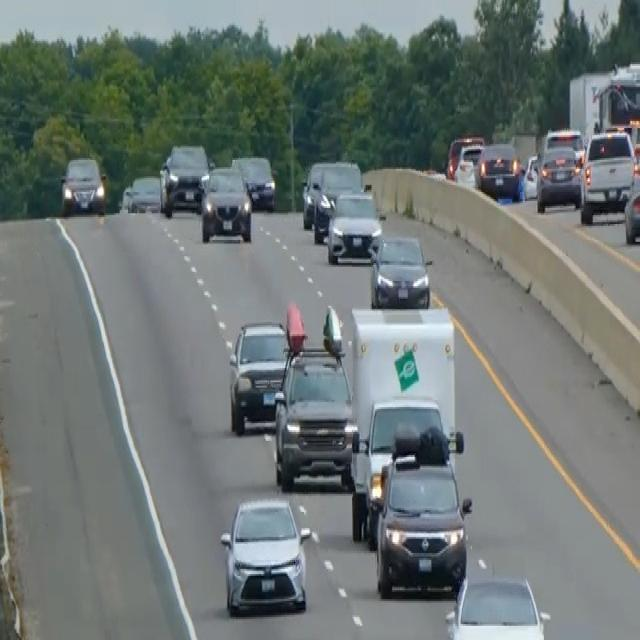car: (219, 494, 310, 615), (228, 316, 291, 434), (444, 572, 550, 638), (579, 126, 635, 222), (369, 233, 431, 309), (326, 188, 382, 265), (200, 164, 252, 244), (312, 158, 362, 240), (159, 142, 209, 215), (535, 142, 582, 212), (60, 155, 106, 215), (475, 141, 522, 199), (231, 153, 276, 210), (301, 158, 331, 228), (445, 134, 484, 182), (542, 126, 585, 166), (128, 174, 161, 212), (623, 183, 639, 244), (522, 153, 539, 199), (119, 183, 133, 212)
jeep: (272, 302, 355, 491)
minivan: (372, 425, 472, 599)
truck: (347, 304, 458, 542)
